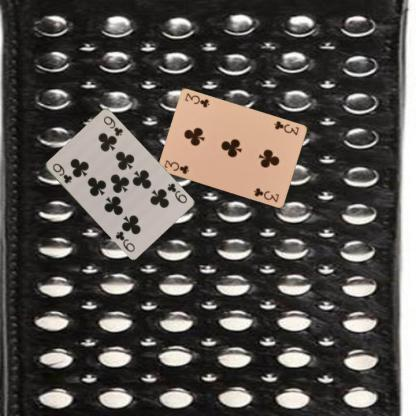3c: (161, 158, 190, 176), (271, 119, 300, 136)
9c: (164, 180, 188, 205), (50, 161, 73, 185)
